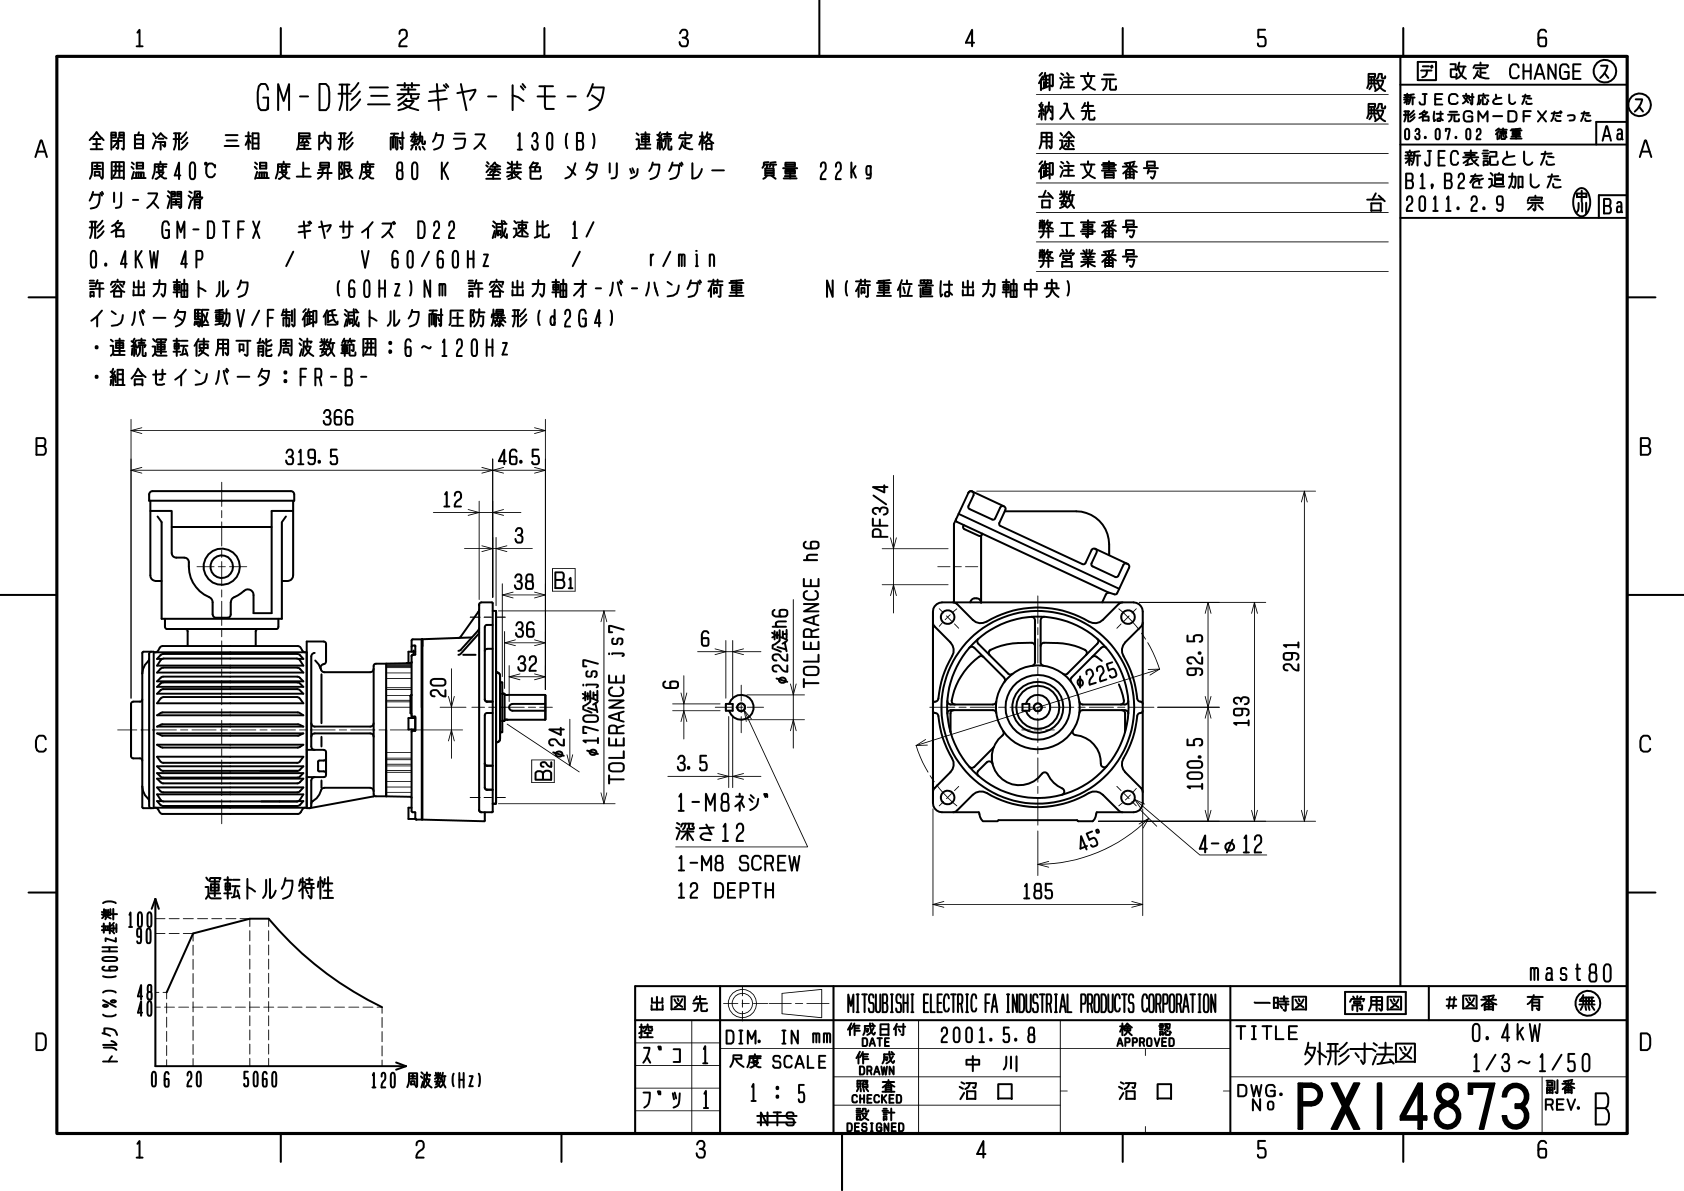GM_D_VF制御屋内_三相_フランジ: (67, 396, 1389, 956)
